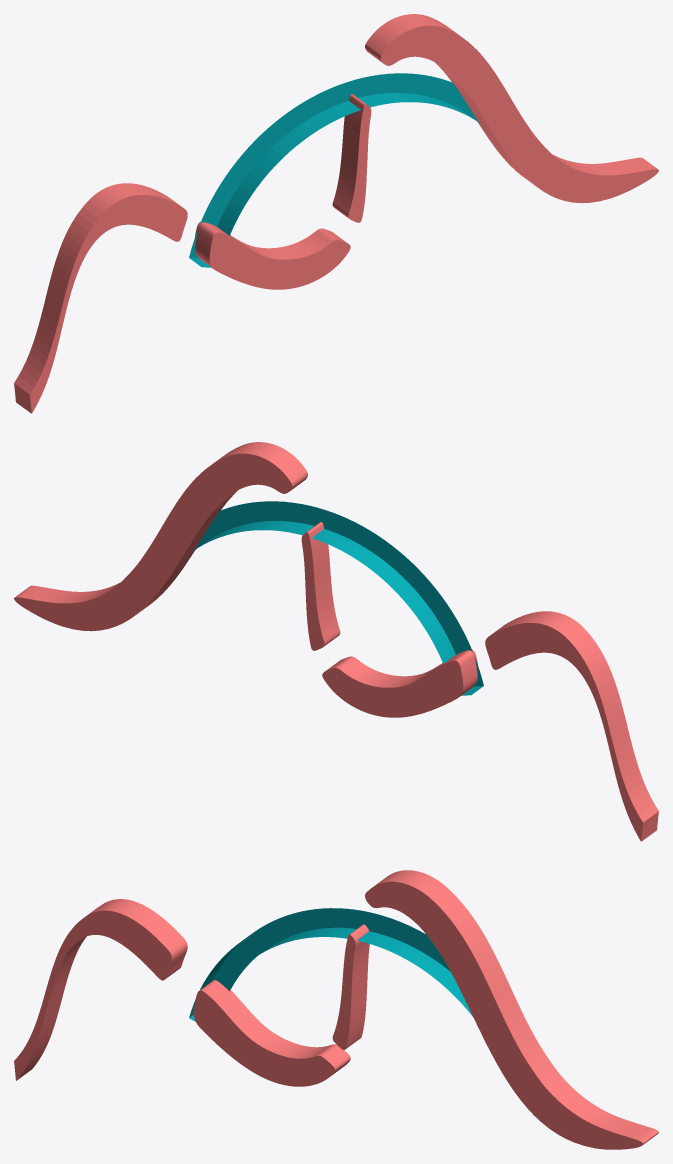
File: add_arch_teal.glb
3 renders of one model, top to bottom at view 1: azimuth 30°, elevation 25°; view 2: azimuth 150°, elevation 25°; view 3: azimuth 330°, elevation 25°, orthographic.
Visible parts, largest first — view 1: shape_03, virtual_arch_teal, shape_00, shape_01, shape_02; view 2: shape_03, virtual_arch_teal, shape_00, shape_01, shape_02; view 3: shape_03, virtual_arch_teal, shape_00, shape_01, shape_02.
Part boxes in pixels (x1,y1,x2,y2): shape_03: (365,14,658,203); virtual_arch_teal: (189,73,479,267); shape_00: (14,183,187,413); shape_01: (195,221,350,289); shape_02: (332,94,371,222); shape_03: (14,442,307,631); virtual_arch_teal: (193,501,483,695); shape_00: (485,611,658,841); shape_01: (322,649,477,717); shape_02: (301,522,340,650); shape_03: (365,870,658,1149); virtual_arch_teal: (189,908,472,1021); shape_00: (14,899,187,1080); shape_01: (193,980,350,1086); shape_02: (332,924,369,1049).
Size of the model in its own units: 6.9 by 3.06 by 0.3.
